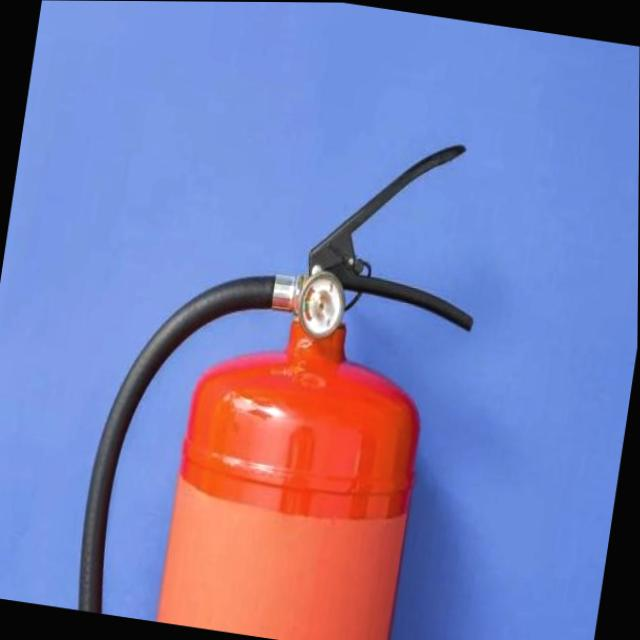FireExtinguisher: (66, 88, 502, 640)
